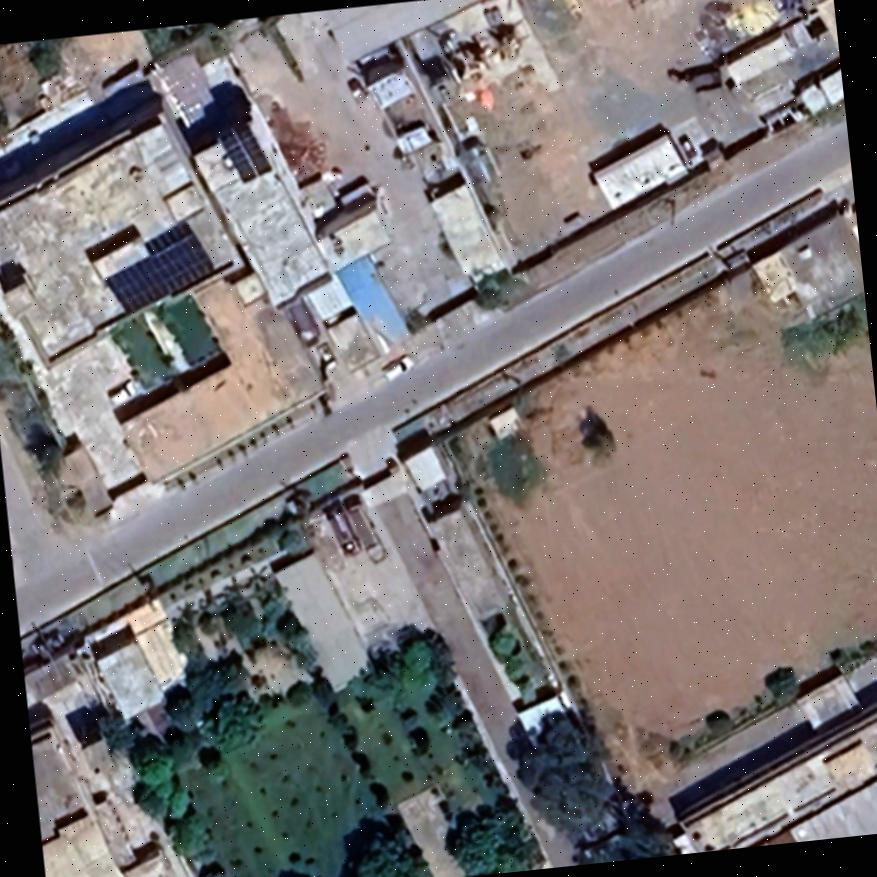Solarpanel: (91, 214, 217, 315), (215, 119, 273, 184)
